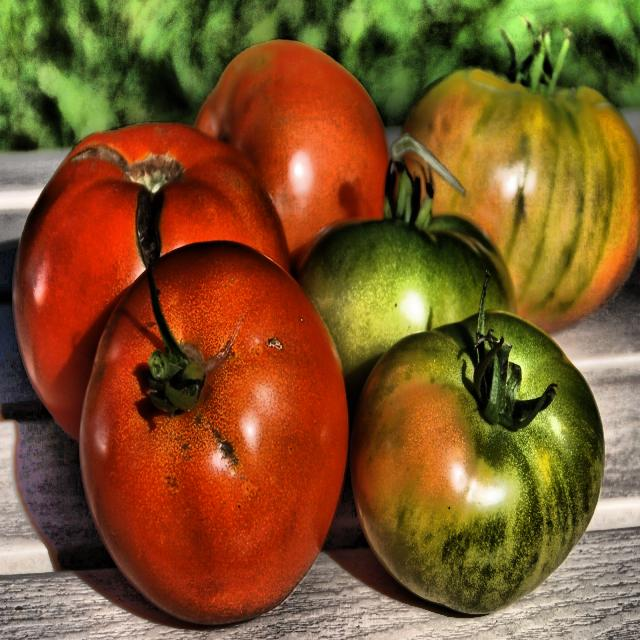tomato: (46, 54, 630, 628)
